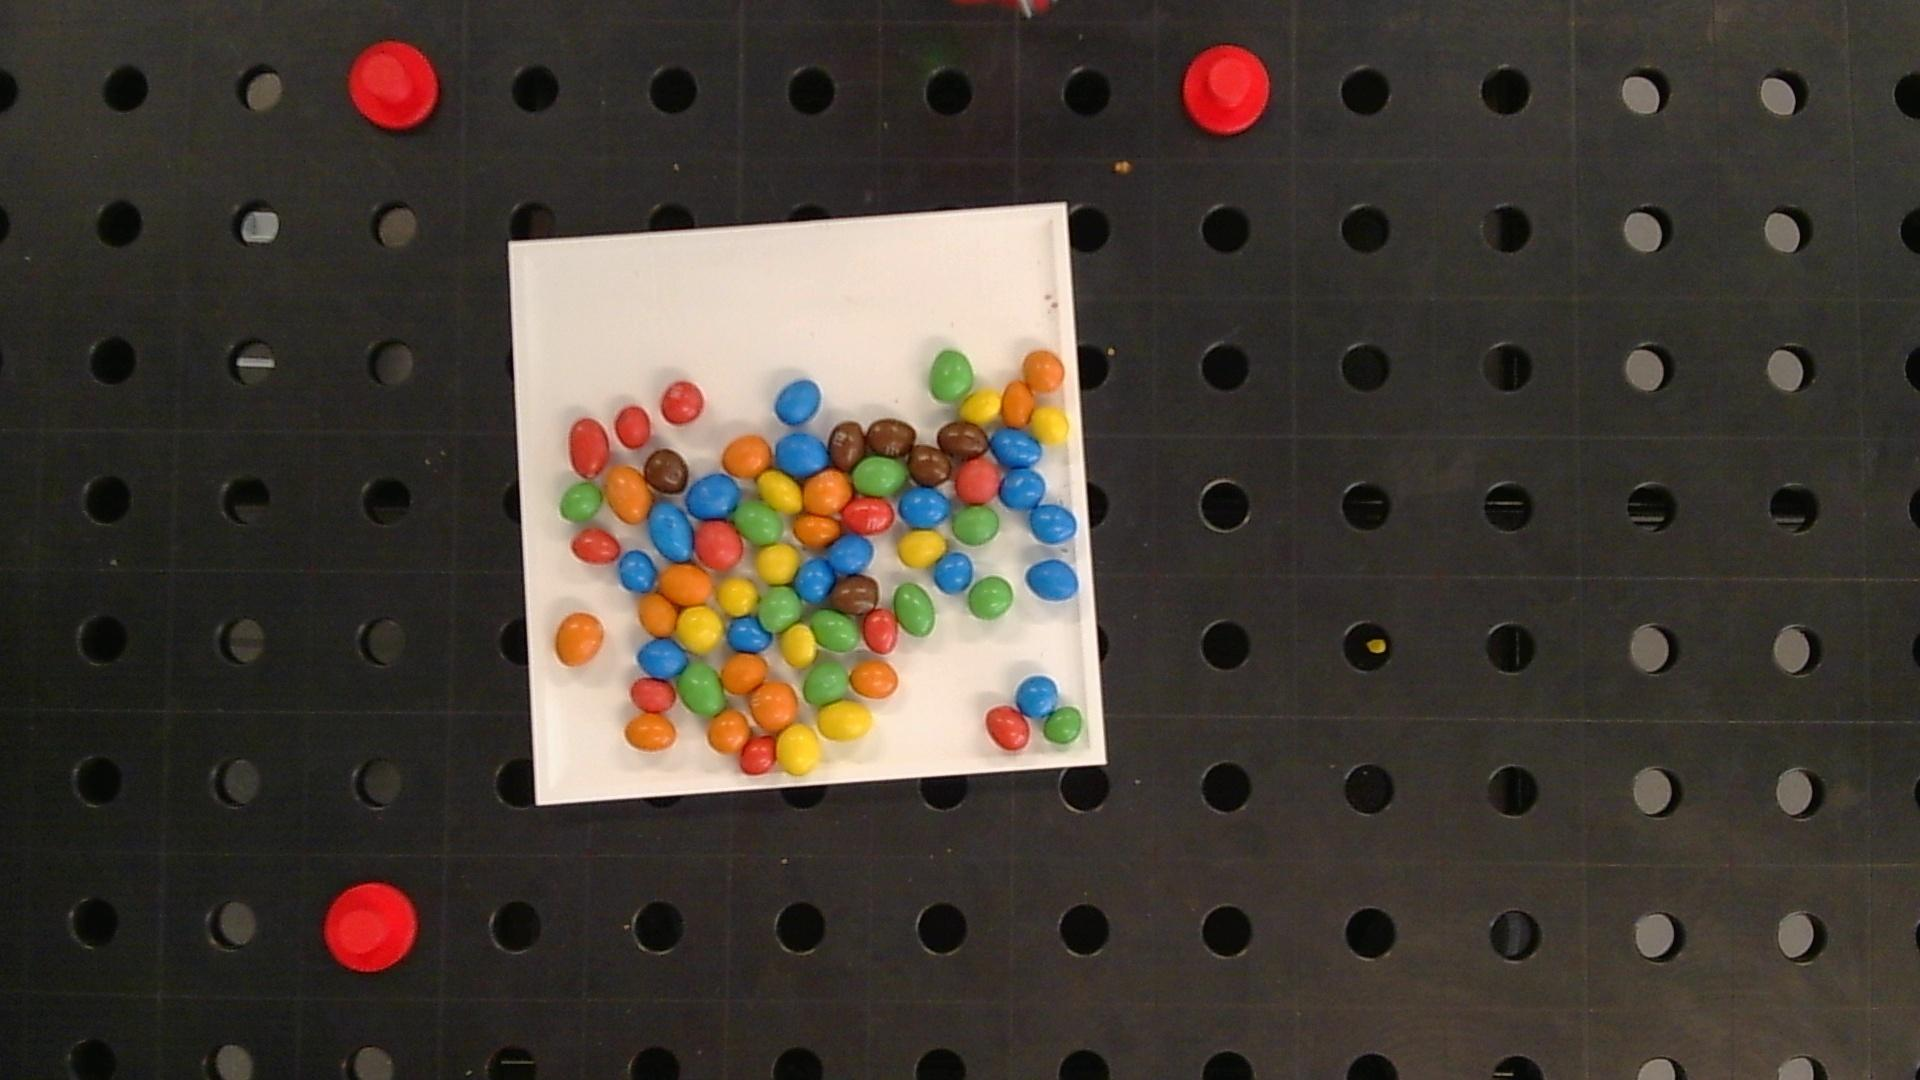blue: (650, 504, 694, 560), (687, 473, 740, 517), (1026, 559, 1079, 601), (777, 433, 828, 475), (775, 380, 822, 425), (899, 487, 949, 527), (989, 429, 1042, 467), (638, 638, 687, 676), (1030, 505, 1076, 545), (795, 558, 835, 603), (1017, 675, 1059, 716), (831, 533, 873, 574), (1002, 469, 1046, 509), (727, 616, 771, 651), (935, 553, 973, 592), (618, 551, 655, 592)
brown: (936, 421, 988, 459), (645, 448, 688, 493), (866, 418, 916, 456), (829, 421, 866, 469), (909, 444, 951, 485), (833, 576, 878, 613)
green: (679, 662, 724, 715), (894, 583, 935, 637), (853, 456, 909, 496), (930, 351, 973, 401), (733, 501, 785, 543), (968, 576, 1014, 620), (812, 609, 860, 651), (952, 506, 1000, 546), (804, 662, 848, 704), (760, 587, 802, 630), (559, 483, 603, 522), (1043, 707, 1085, 745)
orange: (605, 465, 653, 522), (555, 612, 604, 665), (750, 682, 798, 731), (659, 564, 713, 604), (723, 434, 771, 476), (803, 471, 852, 512), (624, 715, 676, 750), (849, 661, 898, 698), (708, 711, 750, 753), (1023, 351, 1065, 392), (723, 654, 766, 694), (640, 592, 676, 636), (794, 513, 840, 547), (1001, 381, 1034, 426)
red: (568, 418, 609, 476), (695, 521, 742, 568), (985, 705, 1030, 749), (955, 460, 1001, 502), (841, 497, 894, 533), (661, 381, 704, 423), (571, 529, 620, 563), (862, 608, 898, 653), (630, 678, 675, 712), (615, 406, 651, 447), (740, 737, 777, 774)
yellow: (816, 702, 873, 740), (777, 725, 820, 774), (678, 607, 724, 651), (758, 471, 802, 512), (898, 531, 945, 567), (757, 545, 799, 583), (719, 576, 757, 615), (781, 625, 816, 666), (1030, 407, 1069, 443), (961, 392, 1001, 422)
